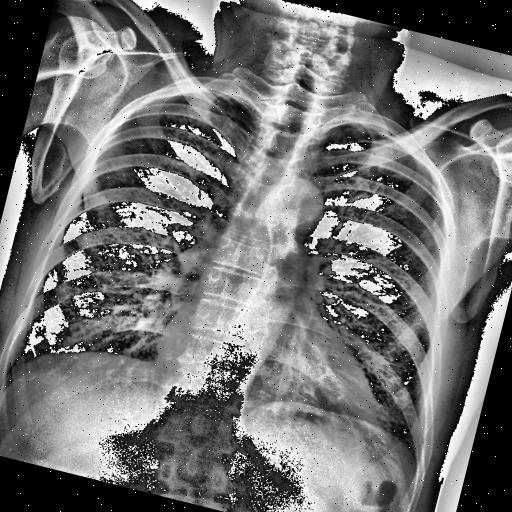0- Aortic enlargement: (256, 170, 331, 244), (262, 170, 330, 243)
11- Pleural thickening: (340, 116, 394, 142), (211, 91, 254, 109)
3- Cardiomegaly: (148, 301, 384, 425), (148, 314, 398, 430)
9- Other lesion: (6, 338, 72, 400)
